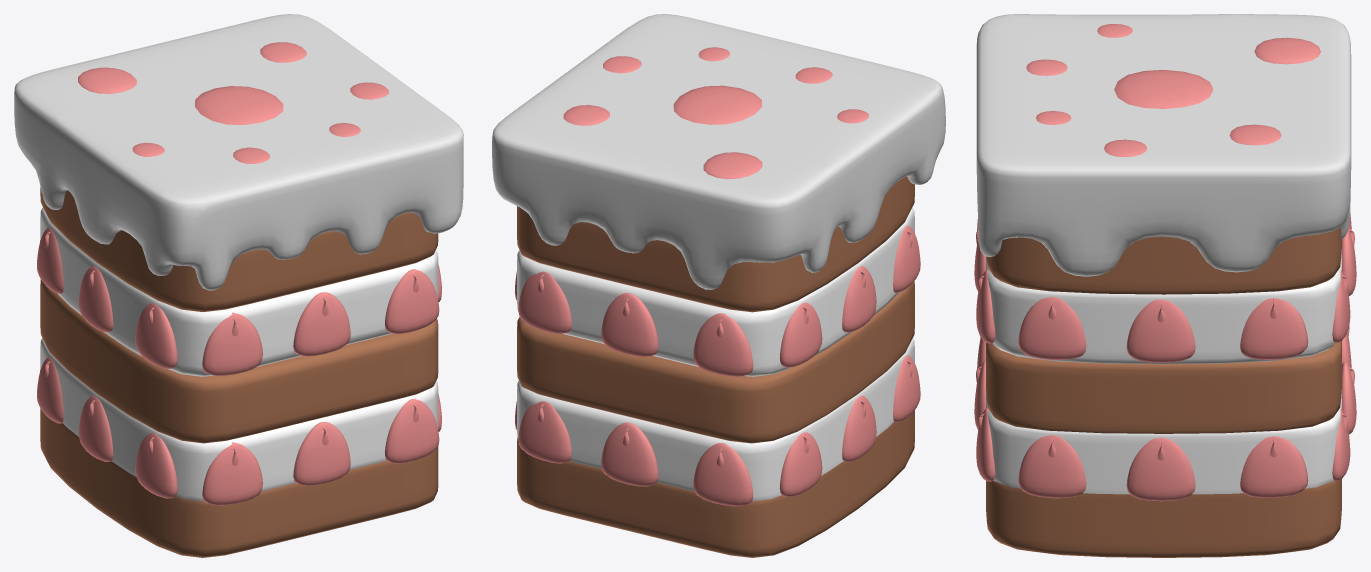
The model's file is cake.obj.
3 views of the same model, side by side, from view 1: azimuth 30°, elevation 25°; view 2: azimuth 150°, elevation 25°; view 3: azimuth 270°, elevation 25° (orthographic). The views are drawn at different scales.
Parts seen in each view (by area): view 1: frosting; view 2: frosting; view 3: frosting.
Part boxes in pixels (<box>): frosting: <box>14,14,463,557</box>; frosting: <box>492,14,945,557</box>; frosting: <box>974,14,1356,557</box>.
Size of the model in its own units: 2.1 by 2.5 by 2.15.
1 material, 1 textured.
